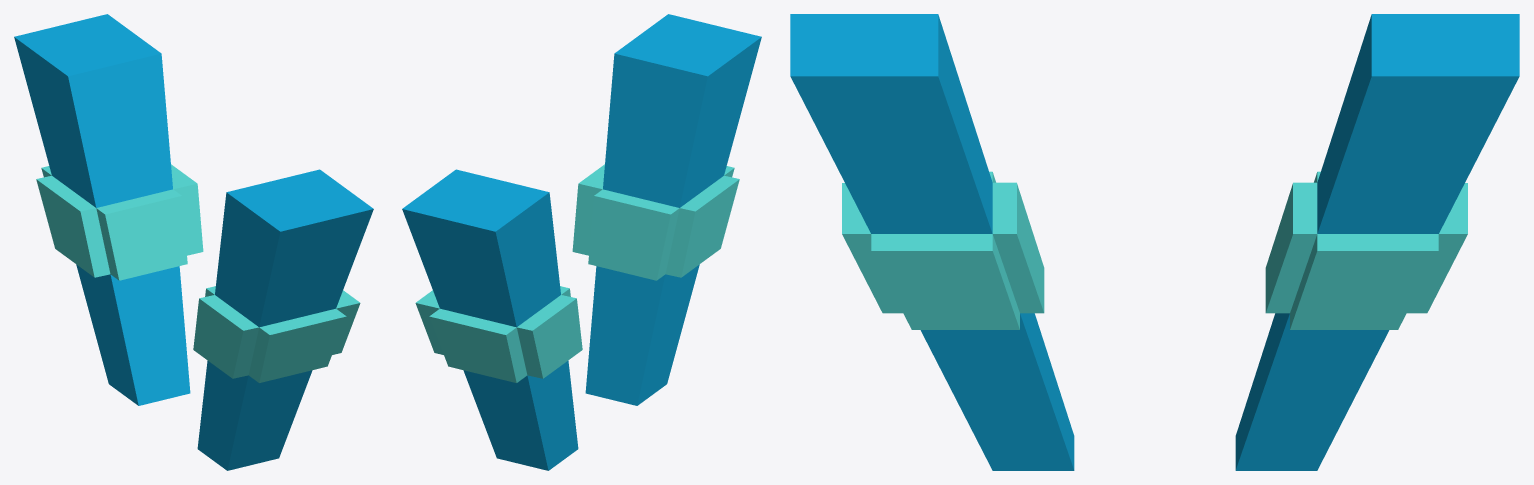
Rendered from AlienRuinsV.gltf.
3 views of the same model, side by side, from view 1: azimuth 30°, elevation 25°; view 2: azimuth 150°, elevation 25°; view 3: azimuth 270°, elevation 25° (orthographic). The views are drawn at different scales.
Parts seen in each view (by area): view 1: AlienRuinV; view 2: AlienRuinV; view 3: AlienRuinV.
Boxes of the visible parts, box(x1,y1,x2,y2) form: AlienRuinV: box(14, 14, 373, 470); AlienRuinV: box(402, 14, 761, 470); AlienRuinV: box(790, 14, 1519, 470).
Bounding box in the file's own units: 0.393 × 0.9564 × 1.55.
